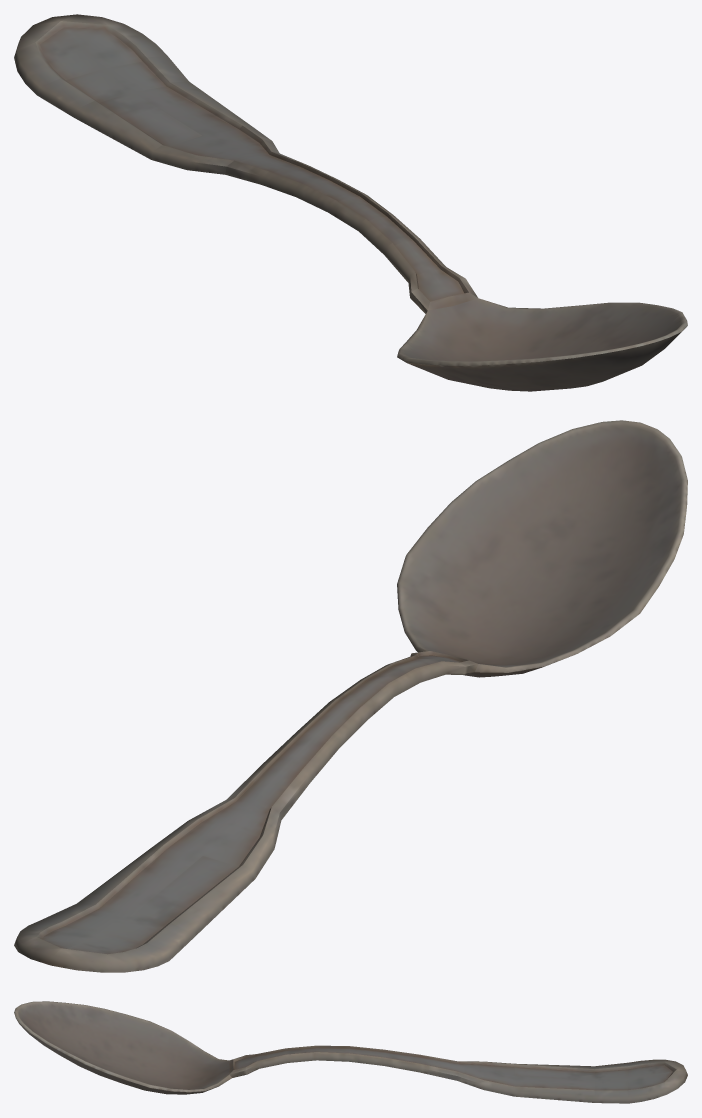
File: SM_Spoon.fbx
The picture shows the model from 3 angles, top to bottom: view 1: azimuth 30°, elevation 25°; view 2: azimuth 150°, elevation 25°; view 3: azimuth 270°, elevation 25°; orthographic projection. The views are drawn at different scales.
Visible parts, largest first — view 1: SM_Spoon_LOD0; view 2: SM_Spoon_LOD0; view 3: SM_Spoon_LOD0.
Boxes of the visible parts, x1=… form: SM_Spoon_LOD0: x1=14, y1=14, x2=687, y2=391; SM_Spoon_LOD0: x1=14, y1=420, x2=687, y2=972; SM_Spoon_LOD0: x1=14, y1=1001, x2=687, y2=1103.
Bounding box in the file's own units: 12.98 × 56.63 × 7.02.
Materials: 1 (1 with a texture image).
